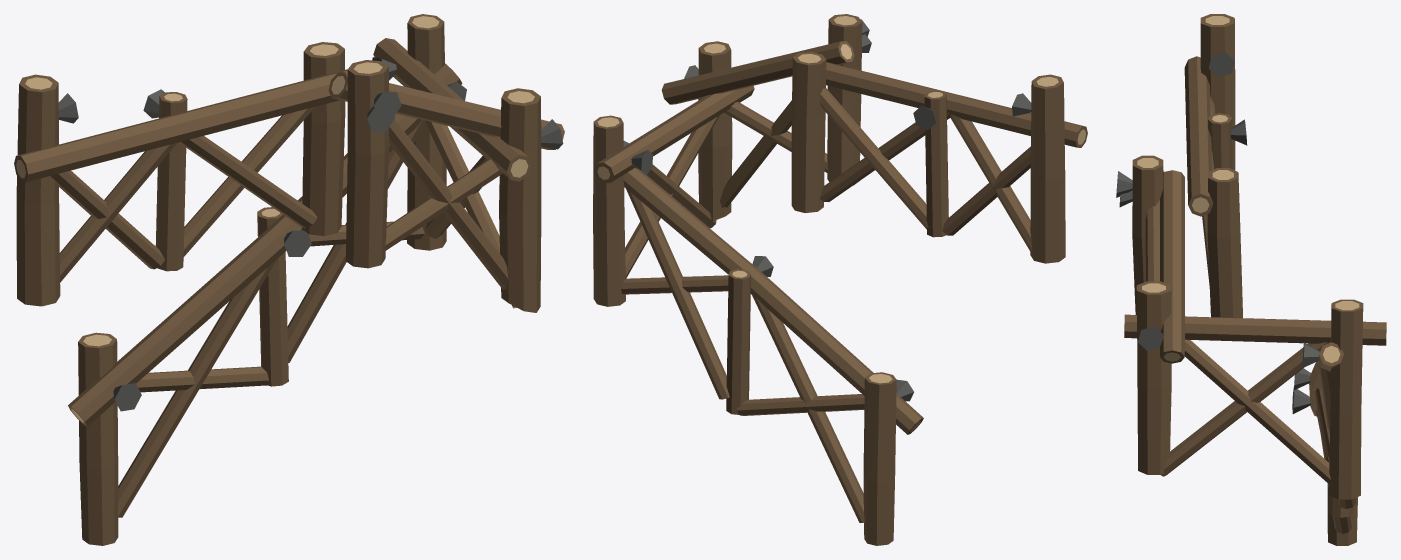
The model's file is rpgpp_ag_stairs_interior_02e_3m_handrail_01.fbx.
The picture shows the model from 3 angles, left to right: view 1: azimuth 30°, elevation 25°; view 2: azimuth 150°, elevation 25°; view 3: azimuth 270°, elevation 25°; orthographic projection. The views are drawn at different scales.
Parts seen in each view (by area): view 1: rpgpp_ag_stairs_interior_02e_3m_handrail_01; view 2: rpgpp_ag_stairs_interior_02e_3m_handrail_01; view 3: rpgpp_ag_stairs_interior_02e_3m_handrail_01.
Boxes of the visible parts, x1=… form: rpgpp_ag_stairs_interior_02e_3m_handrail_01: x1=14, y1=14, x2=564, y2=545; rpgpp_ag_stairs_interior_02e_3m_handrail_01: x1=593, y1=14, x2=1087, y2=545; rpgpp_ag_stairs_interior_02e_3m_handrail_01: x1=1116, y1=14, x2=1386, y2=545.
Bounding box in the file's own units: 4.49 × 4.4 × 2.33.
